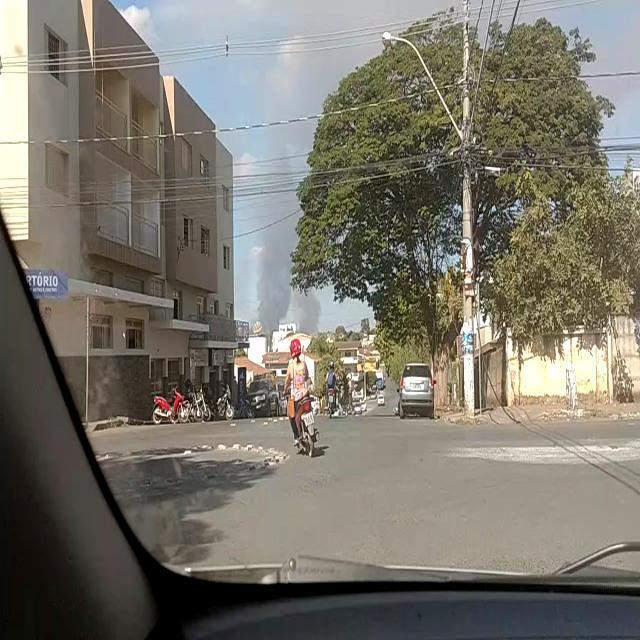Smoke: (228, 0, 325, 336)
